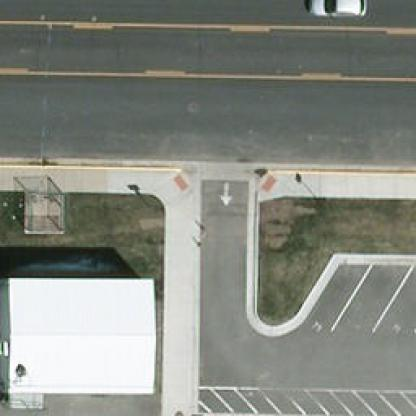car: (306, 0, 366, 15)
